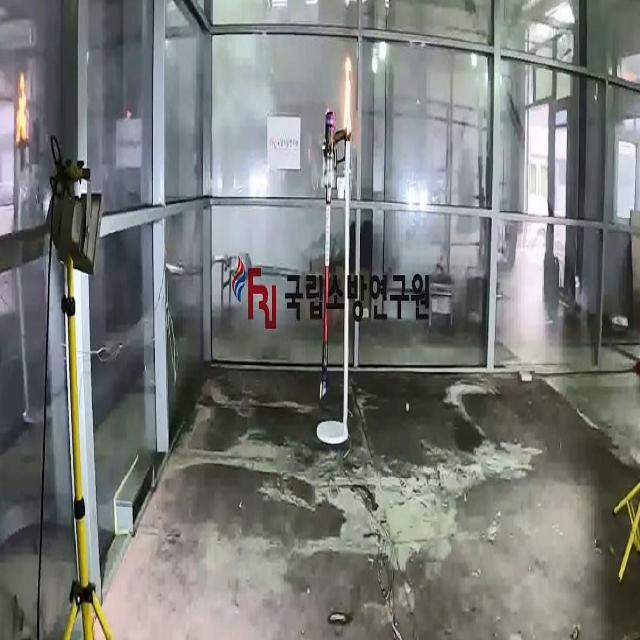Fire: (16, 74, 27, 142), (343, 57, 352, 135)
